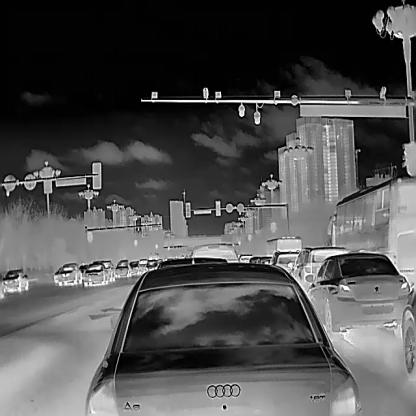bus: (326, 175, 416, 289), (264, 234, 303, 257)
car: (82, 261, 362, 415), (303, 250, 411, 337), (286, 245, 347, 292), (400, 284, 416, 382), (263, 248, 302, 278), (191, 243, 238, 262), (1, 268, 28, 292), (82, 261, 108, 285), (57, 262, 83, 285), (100, 258, 115, 282), (114, 257, 131, 278), (247, 254, 272, 264), (144, 258, 160, 272), (128, 260, 141, 276), (137, 258, 149, 272), (238, 254, 252, 262)
